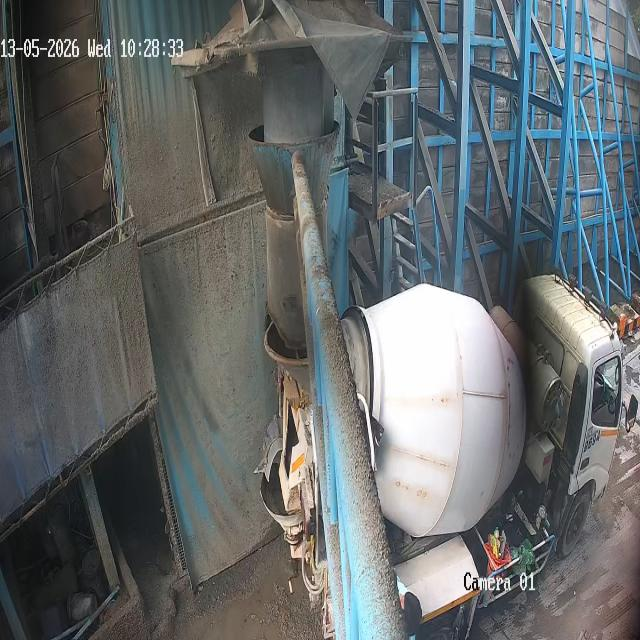cement_mixer_truck: (262, 277, 624, 635)
swing_chute: (246, 123, 345, 343)
